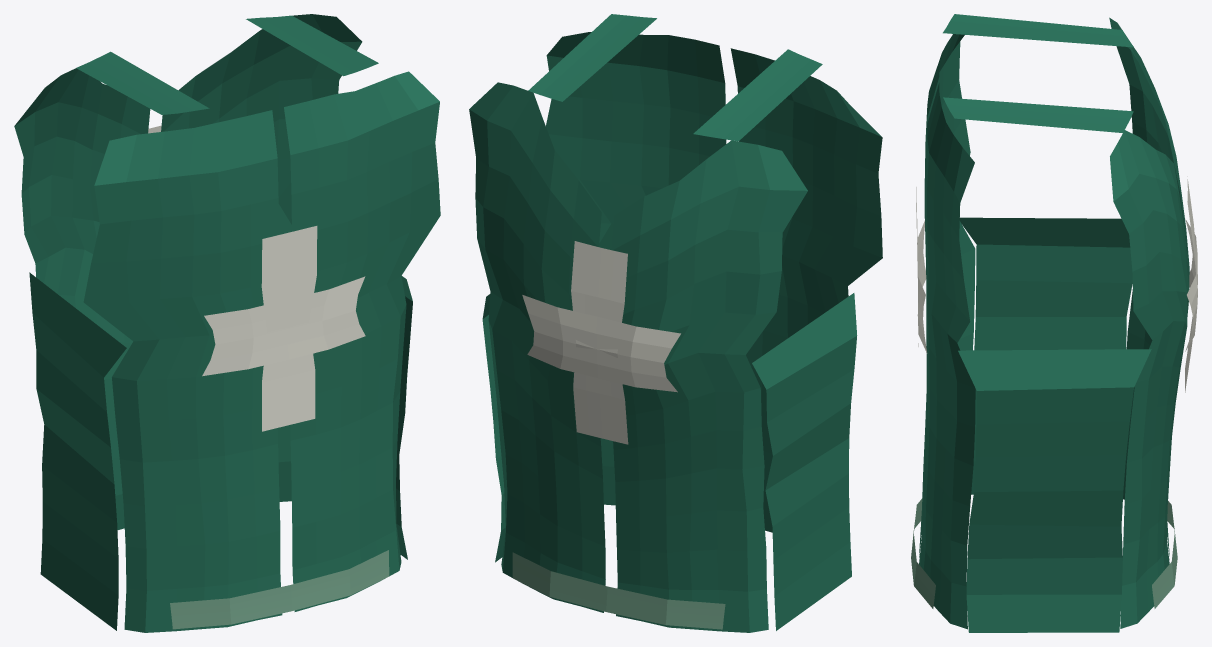
File: lwf_medic_male_overlay_v2.glb
3 renders of one model, left to right at view 1: azimuth 30°, elevation 25°; view 2: azimuth 150°, elevation 25°; view 3: azimuth 270°, elevation 25°, orthographic. The views are drawn at different scales.
Parts seen in each view (by area): view 1: LWF_Medic_Male_Overlay; view 2: LWF_Medic_Male_Overlay; view 3: LWF_Medic_Male_Overlay.
Part boxes in pixels (x1,y1,x2,y2): LWF_Medic_Male_Overlay: [14, 14, 440, 632]; LWF_Medic_Male_Overlay: [469, 14, 882, 632]; LWF_Medic_Male_Overlay: [911, 14, 1197, 632].
Size of the model in its own units: 0.3357 by 0.4612 by 0.2402.
Materials: 1 (1 with a texture image).
